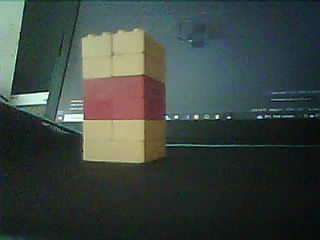lego: (80, 29, 167, 163)
